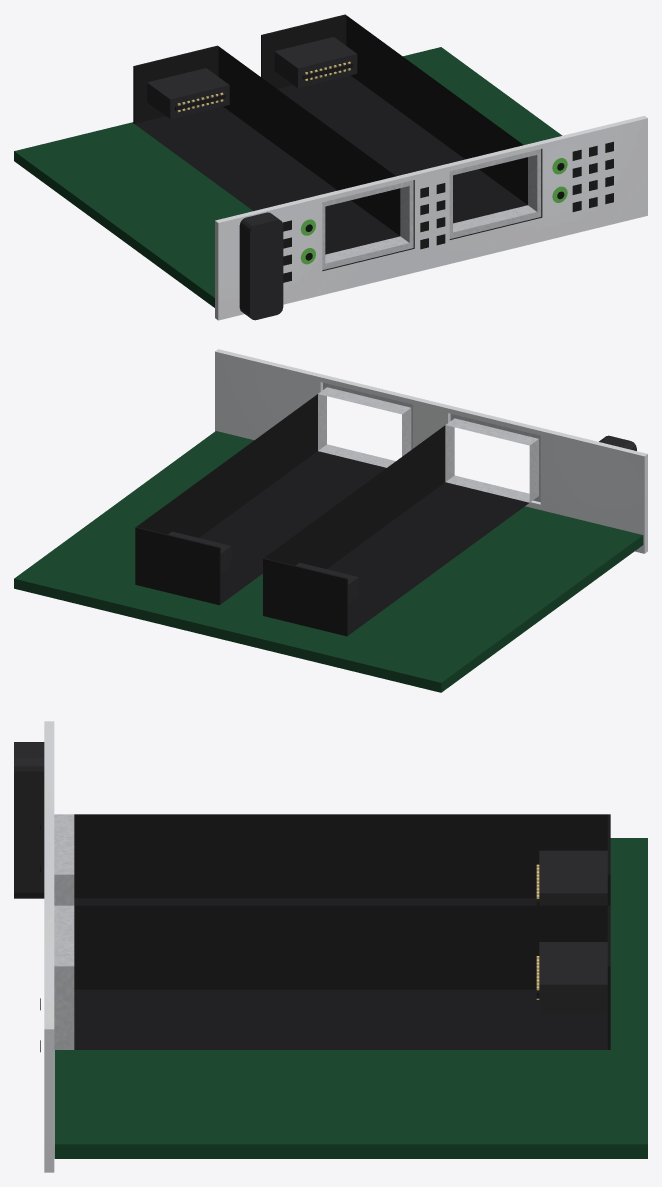
Rendered from BCM957414-N-4140-C.glb.
3 views of the same model, one above another, from view 1: azimuth 30°, elevation 25°; view 2: azimuth 150°, elevation 25°; view 3: azimuth 270°, elevation 25° (orthographic). The views are drawn at different scales.
Parts seen in each view (by area): view 1: Card; view 2: Card; view 3: Card.
Boxes of the visible parts, x1,y1,x2,y2 form: Card: [14, 14, 647, 320]; Card: [14, 349, 647, 692]; Card: [14, 721, 647, 1172].
Size of the model in its own units: 0.0724 by 0.0157 by 0.063.
8 materials, 2 textured.
